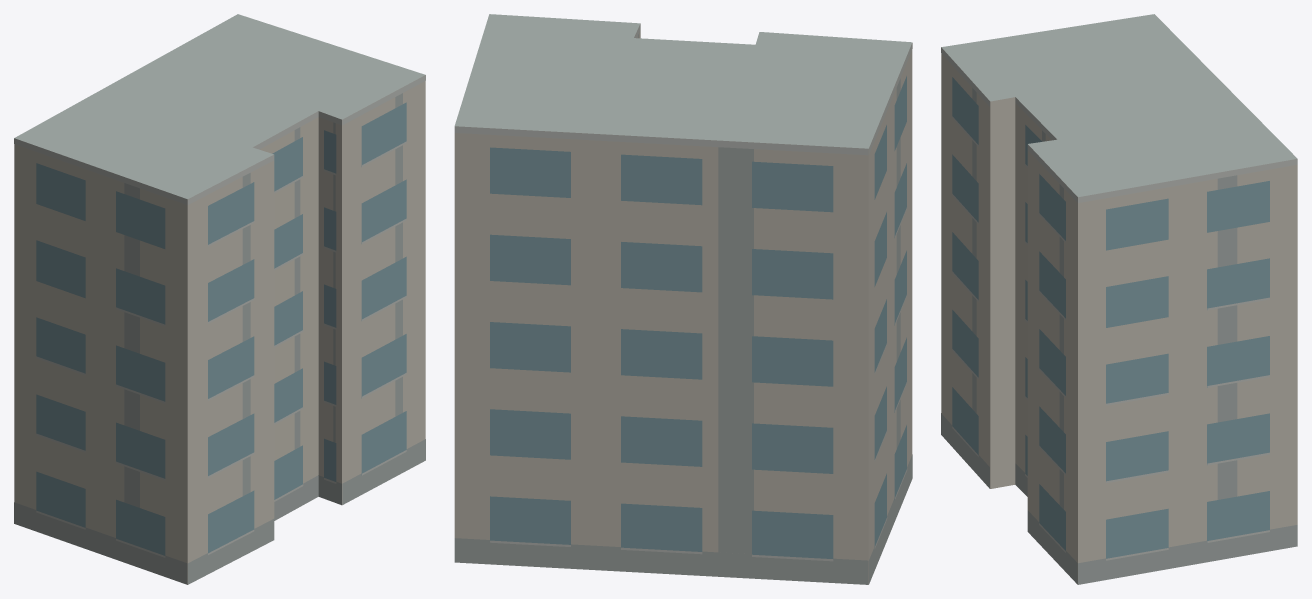
Rendered from survey-upis-32639558.glb.
3 renders of one model, left to right at view 1: azimuth 30°, elevation 25°; view 2: azimuth 150°, elevation 25°; view 3: azimuth 270°, elevation 25°, orthographic. The views are drawn at different scales.
Parts seen in each view (by area): view 1: survey-upis-32639558.tmp; view 2: survey-upis-32639558.tmp; view 3: survey-upis-32639558.tmp.
Boxes of the visible parts, left/top/right/bottom form: survey-upis-32639558.tmp: left=14, top=14, right=425, bottom=584; survey-upis-32639558.tmp: left=454, top=14, right=912, bottom=584; survey-upis-32639558.tmp: left=941, top=14, right=1297, bottom=584.
Size of the model in its own units: 16.23 by 16 by 13.35.
